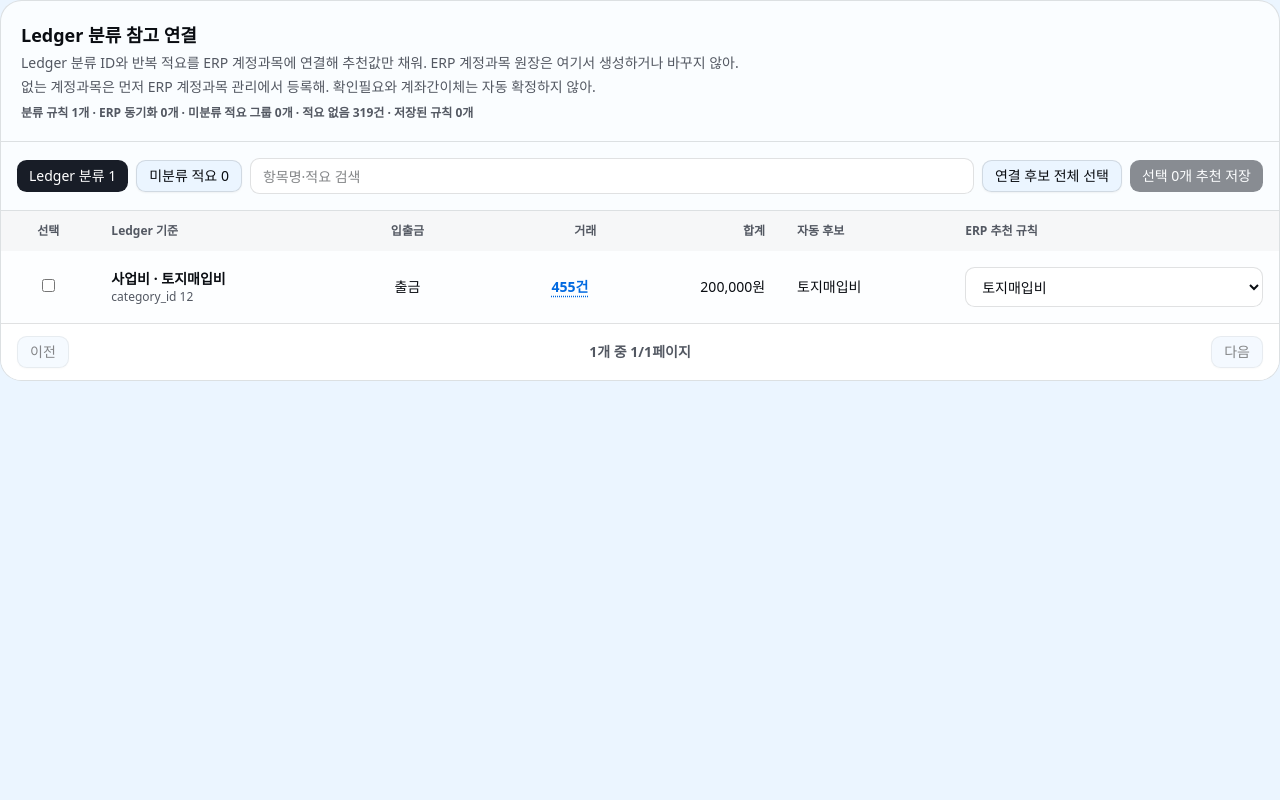
LedgerBankSubjectRuleWorkboardPanel › loads the clicked rule transactions and closes the read-only detail
What coordinates should you click on to do the following:
click the button named "토지매입비 거래 455건 보기"
I would click on:
 (570, 287)
Its box is [544, 273, 596, 301].
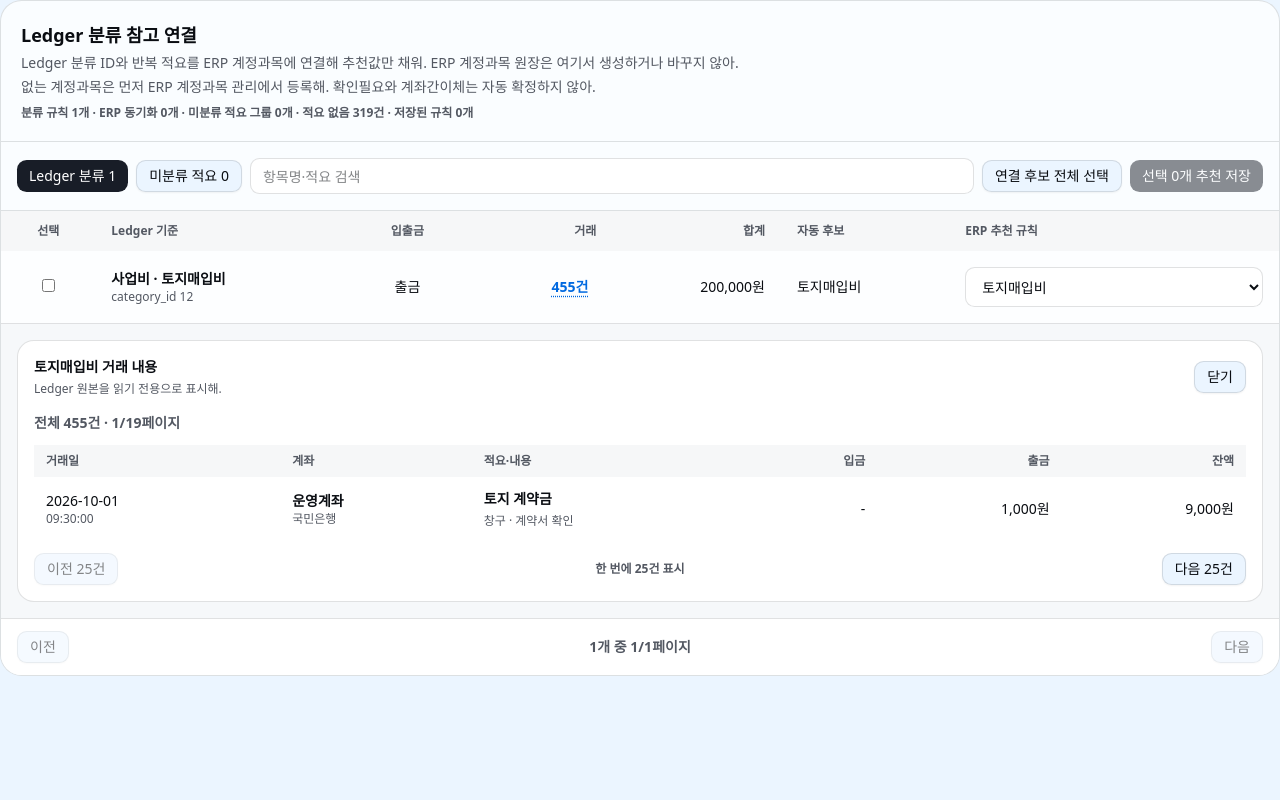
Expected: the text "토지 계약금" is shown, [484, 489, 552, 508]
Expected: the text "창구 · 계약서 확인" is shown, [484, 512, 574, 529]
Expected: the text "1,000원" is shown, [877, 477, 1062, 541]
What coordinates should you click on to do the following:
click the button "닫기"
I would click on:
 (1220, 377)
Its box is [1194, 361, 1246, 393].
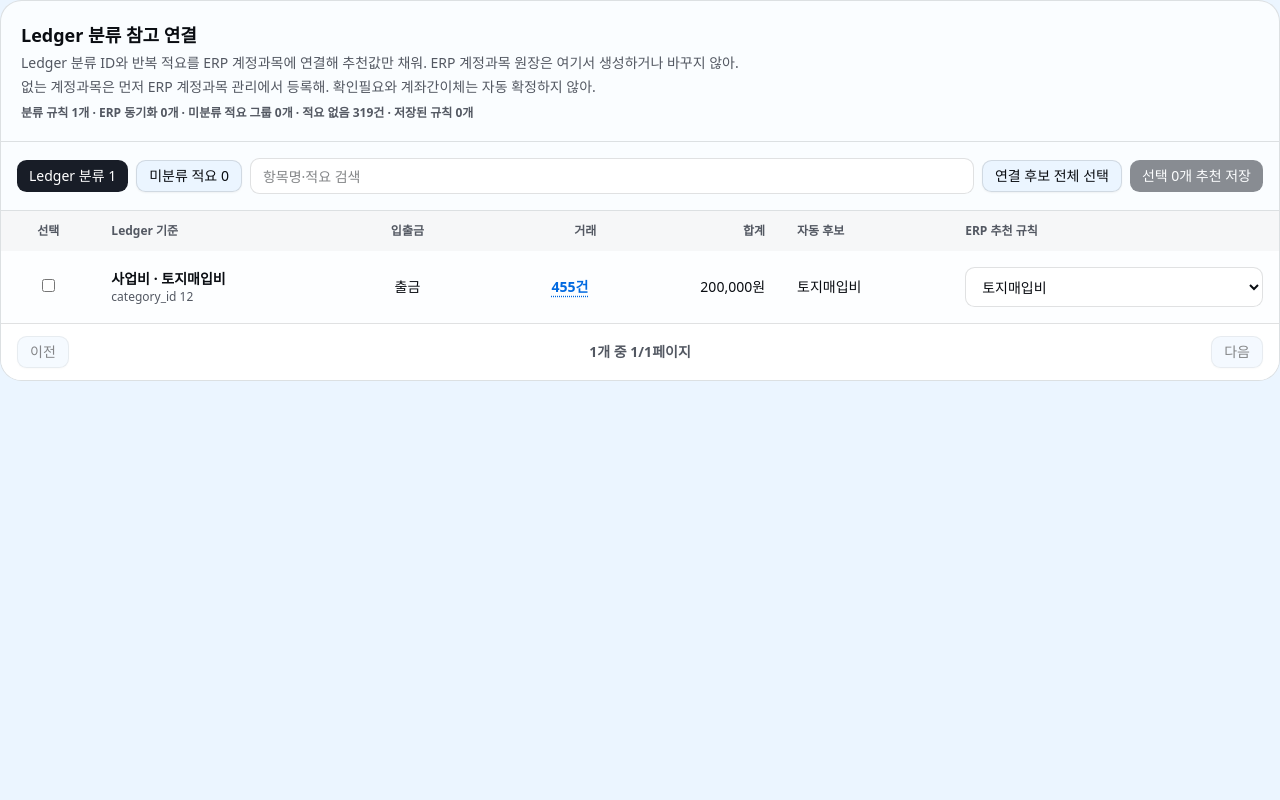
Expected: the heading "토지매입비 거래 내용" is gone
